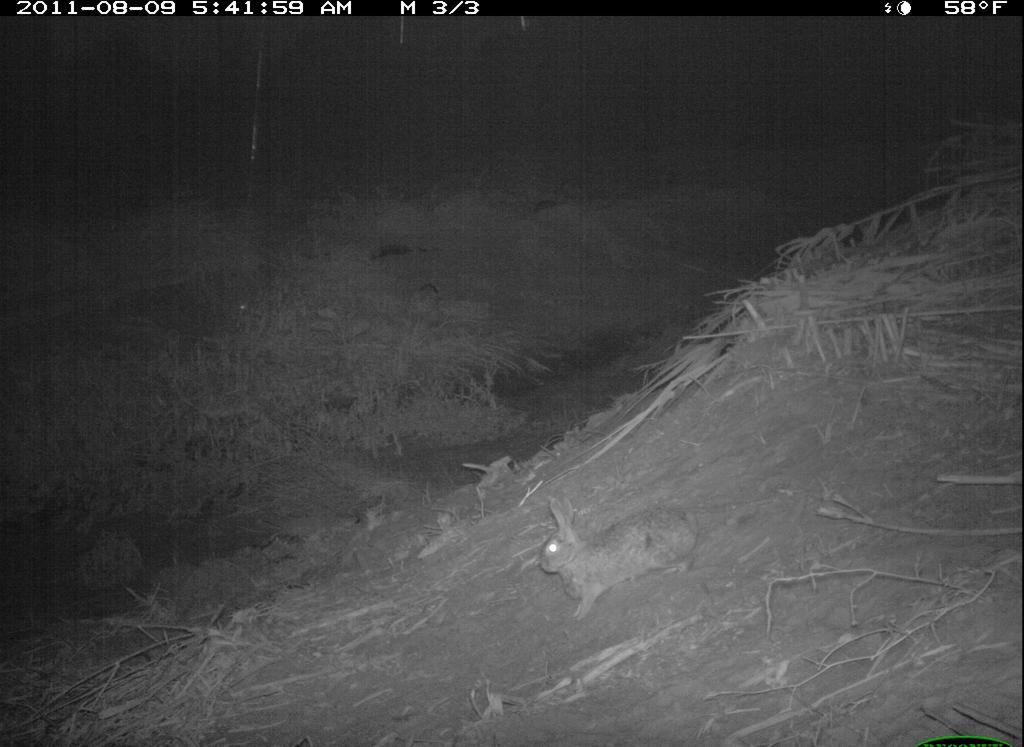rabbit: (534, 486, 706, 623)
